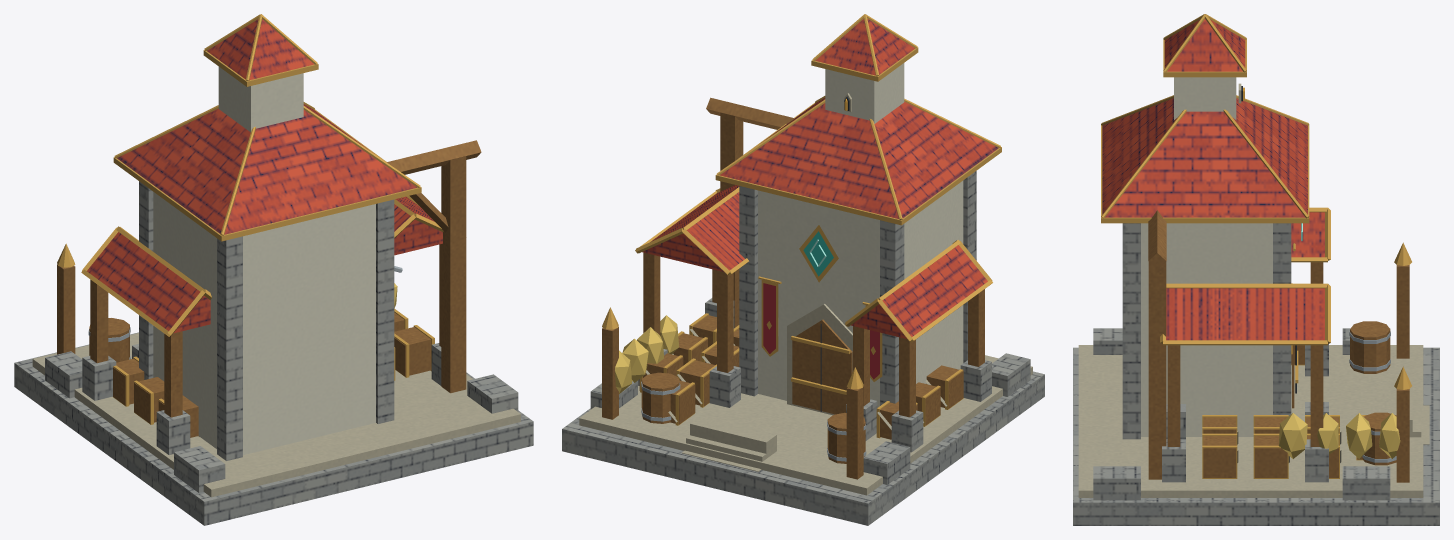
Rendered from Warehouse_3.fbx.
The picture shows the model from 3 angles, left to right: view 1: azimuth 30°, elevation 25°; view 2: azimuth 150°, elevation 25°; view 3: azimuth 270°, elevation 25°; orthographic projection. The views are drawn at different scales.
Parts seen in each view (by area): view 1: Warehouse_3; view 2: Warehouse_3; view 3: Warehouse_3.
Part boxes in pixels (bbox=[...]): Warehouse_3: bbox=[14, 14, 533, 525]; Warehouse_3: bbox=[562, 14, 1044, 525]; Warehouse_3: bbox=[1073, 14, 1439, 525].
Size of the model in its own units: 1 by 1.25 by 1.
1 material, 1 textured.
